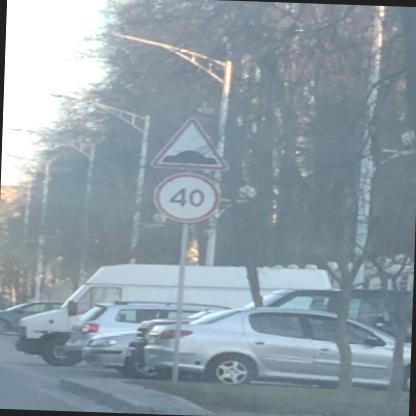speedlimit: (150, 170, 218, 222)
